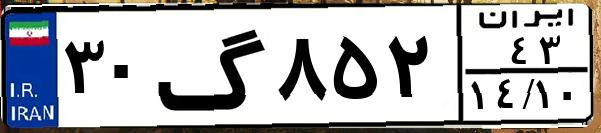0: (110, 28, 156, 98), (560, 70, 590, 125)
1: (470, 70, 495, 125), (535, 70, 560, 125)
2: (385, 28, 445, 110)
3: (57, 26, 110, 100), (537, 27, 568, 80)
4: (508, 27, 537, 80), (495, 70, 520, 125)
5: (330, 28, 385, 110)
8: (270, 28, 330, 110)
گ: (156, 12, 270, 120)
